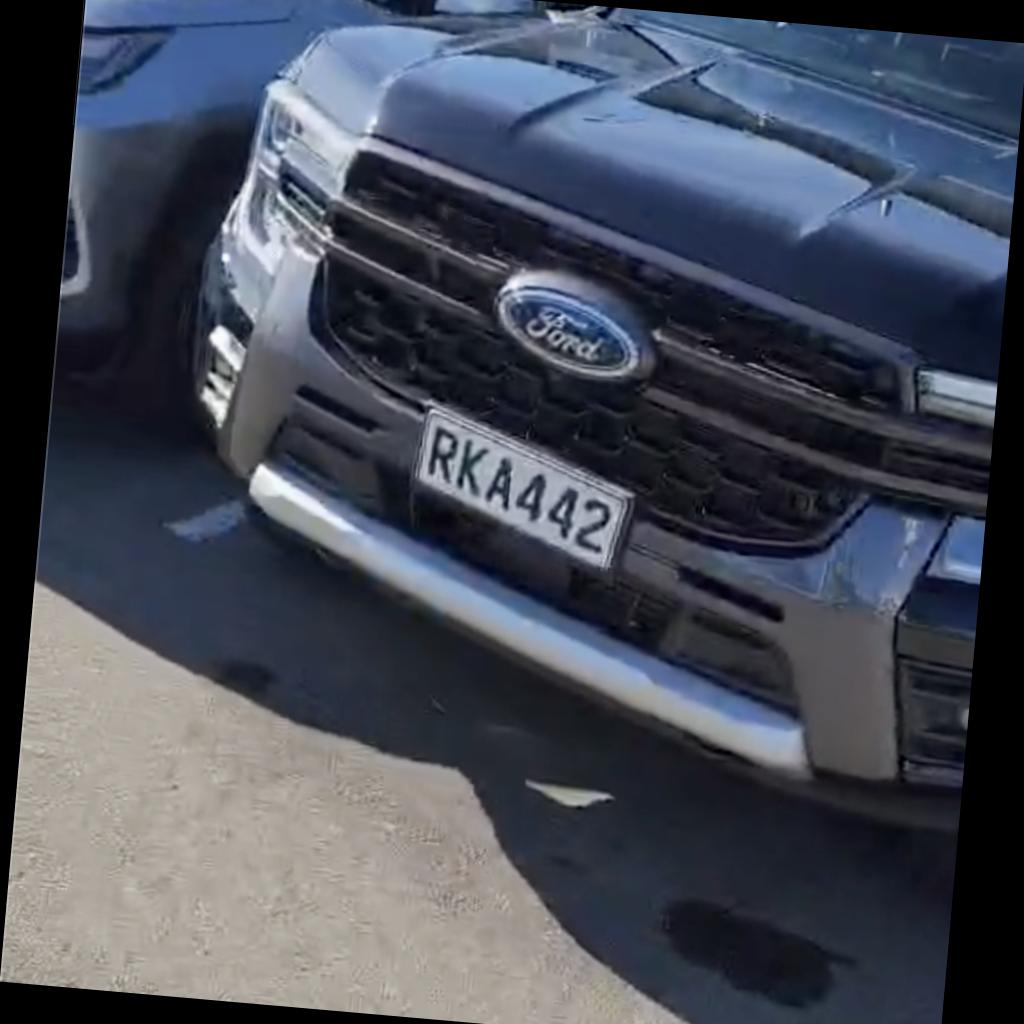Number-Plates: (413, 407, 630, 571)
